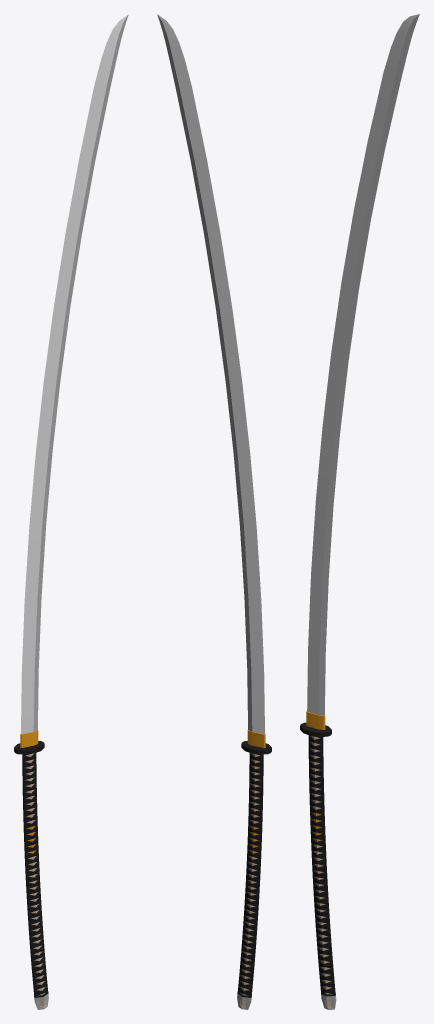
File: SM_Sword12_Odachi_3Silver.fbx
The picture shows the model from 3 angles, left to right: view 1: azimuth 30°, elevation 25°; view 2: azimuth 150°, elevation 25°; view 3: azimuth 330°, elevation 25°; orthographic projection. The views are drawn at different scales.
Visible parts, largest first — view 1: Cube.498, Torus.051; view 2: Cube.498, Torus.051; view 3: Cube.498, Torus.051.
Part boxes in pixels (x1,y1,x2,y2): Cube.498: (21,14,128,733); Torus.051: (22,753,48,996); Cube.498: (157,14,264,733); Torus.051: (237,753,263,996); Cube.498: (307,14,419,715); Torus.051: (308,735,335,994).
Bounding box in the file's own units: 0.2184 × 1.79 × 0.0342.
